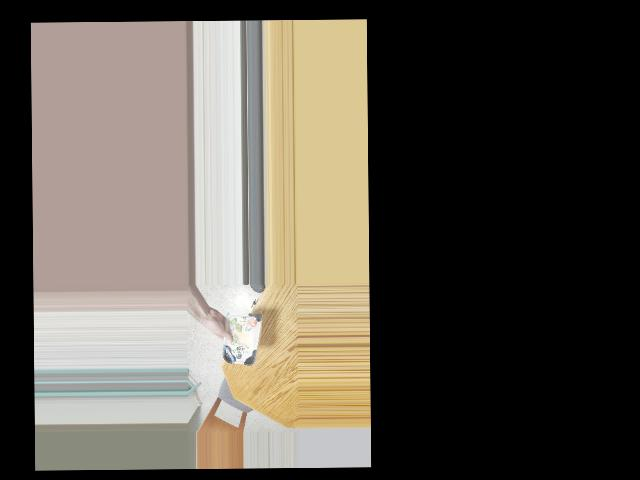cheese: (215, 312, 263, 364)
